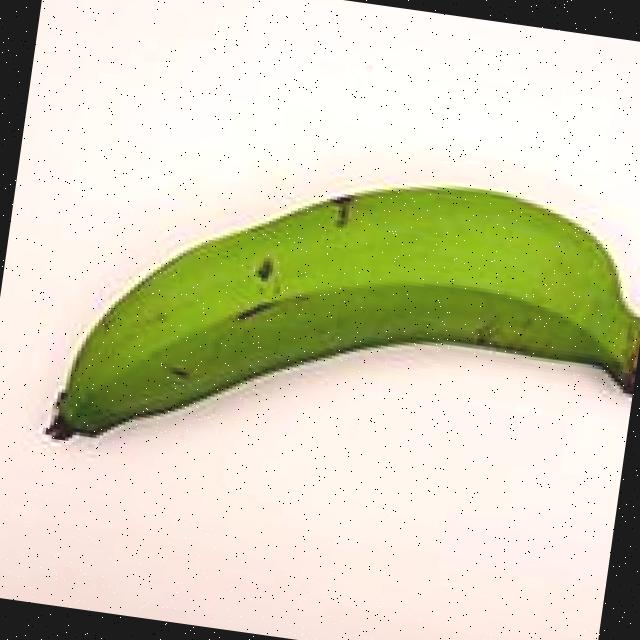Raw: (9, 66, 640, 531)
